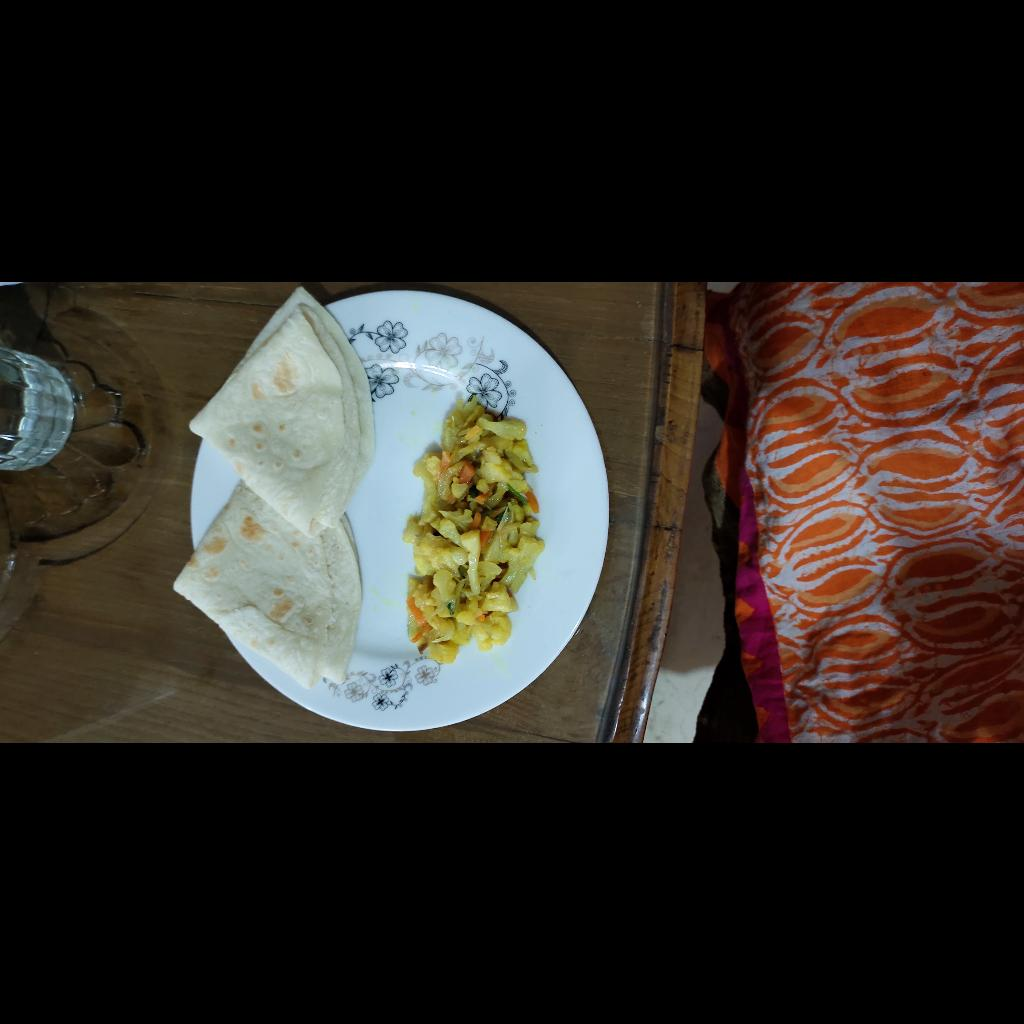ruti: (53, 448, 458, 654)
vegetable: (74, 680, 347, 817)
